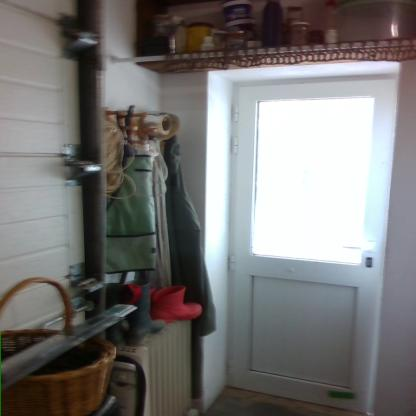closed: (225, 75, 392, 415)
